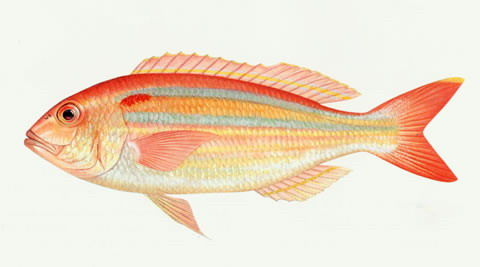fish: (23, 51, 466, 240)
